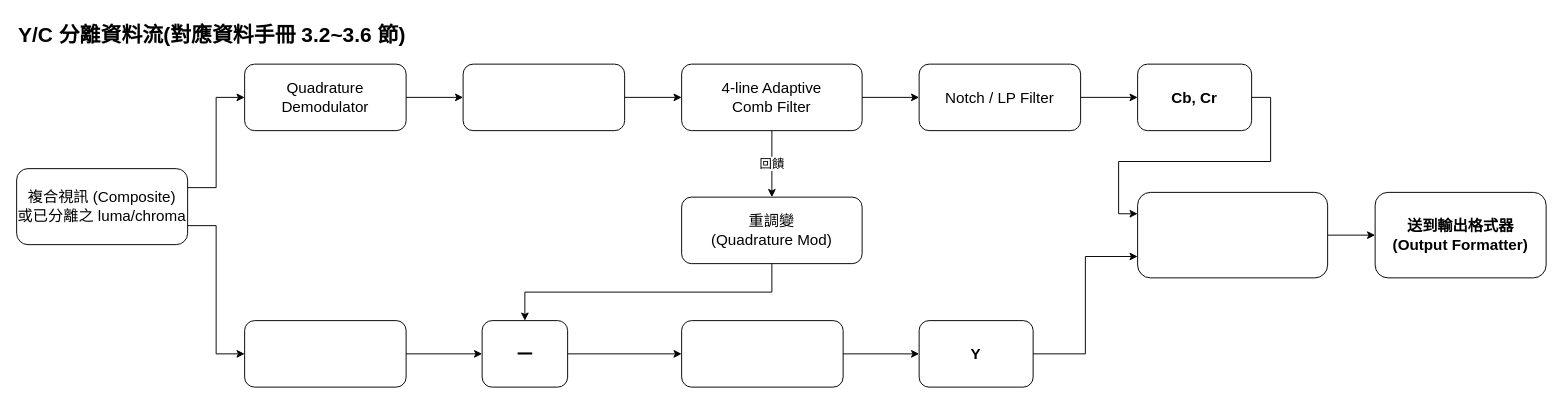
Some shapes in this 1563 by 404 pixel diagram are drawn without their labels. The box of each missing label's shape, as (x1, y1, x2, y2) in pixels:
Color LPF ↓2: (462, 63, 625, 131)
Contrast / Brightness / Saturation / Hue: (1137, 191, 1328, 278)
Line Delay: (244, 320, 406, 387)
Peaking (Sharpness): (681, 320, 843, 387)
